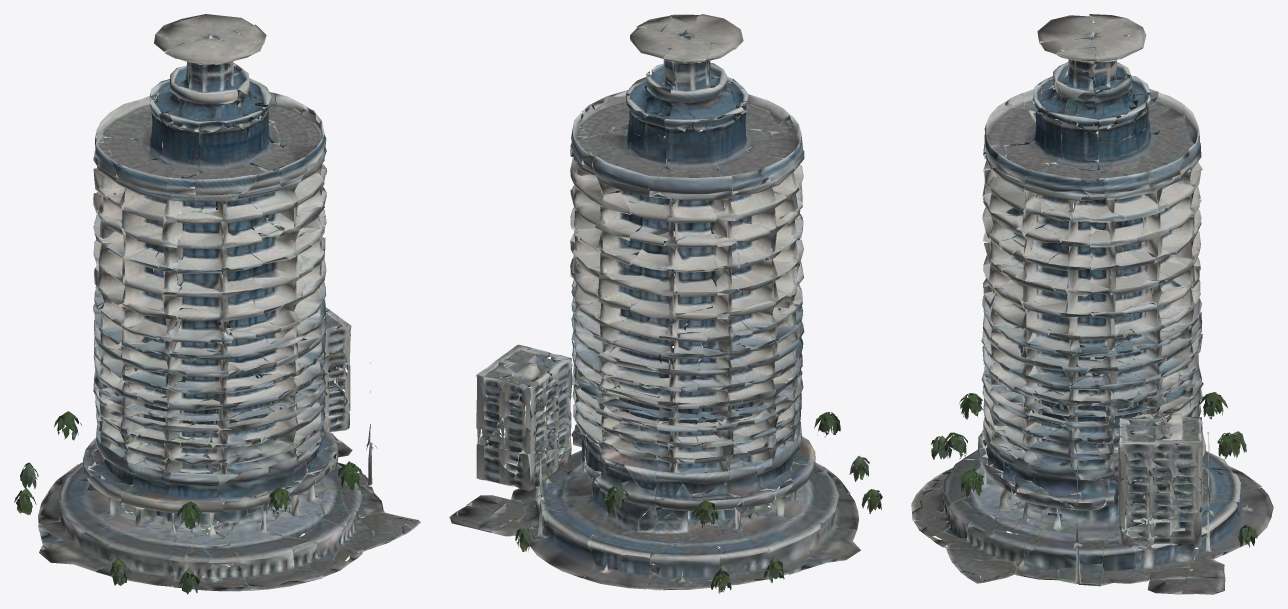
The model's file is tower_l_p.glb.
The picture shows the model from 3 angles, left to right: view 1: azimuth 30°, elevation 25°; view 2: azimuth 150°, elevation 25°; view 3: azimuth 270°, elevation 25°; orthographic projection.
Visible parts, largest first — view 1: Mesh_0; view 2: Mesh_0; view 3: Mesh_0.
Boxes of the visible parts, left/top/right/bottom form: Mesh_0: left=14, top=14, right=420, bottom=594; Mesh_0: left=449, top=14, right=882, bottom=593; Mesh_0: left=911, top=14, right=1273, bottom=594.
Bounding box in the file's own units: 1.41 × 1.91 × 1.3.
Materials: 1 (1 with a texture image).
